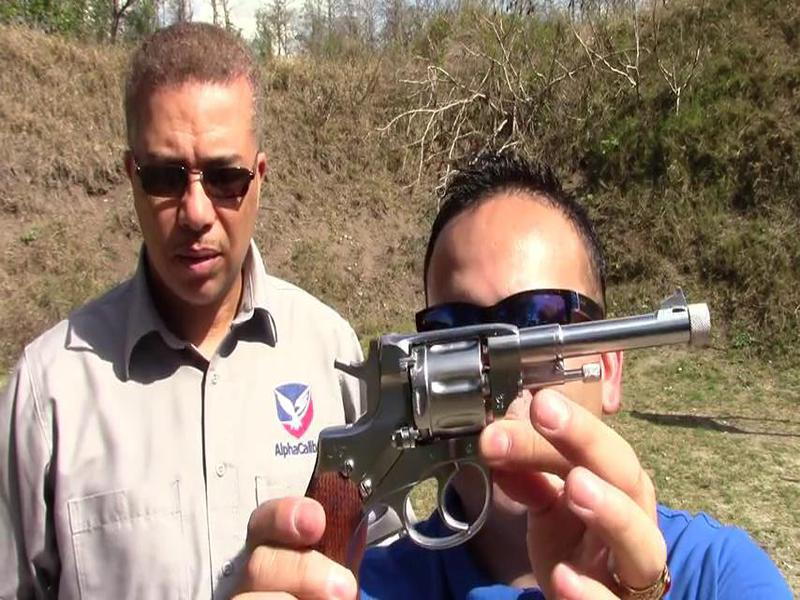Revolver: (288, 291, 725, 503)
